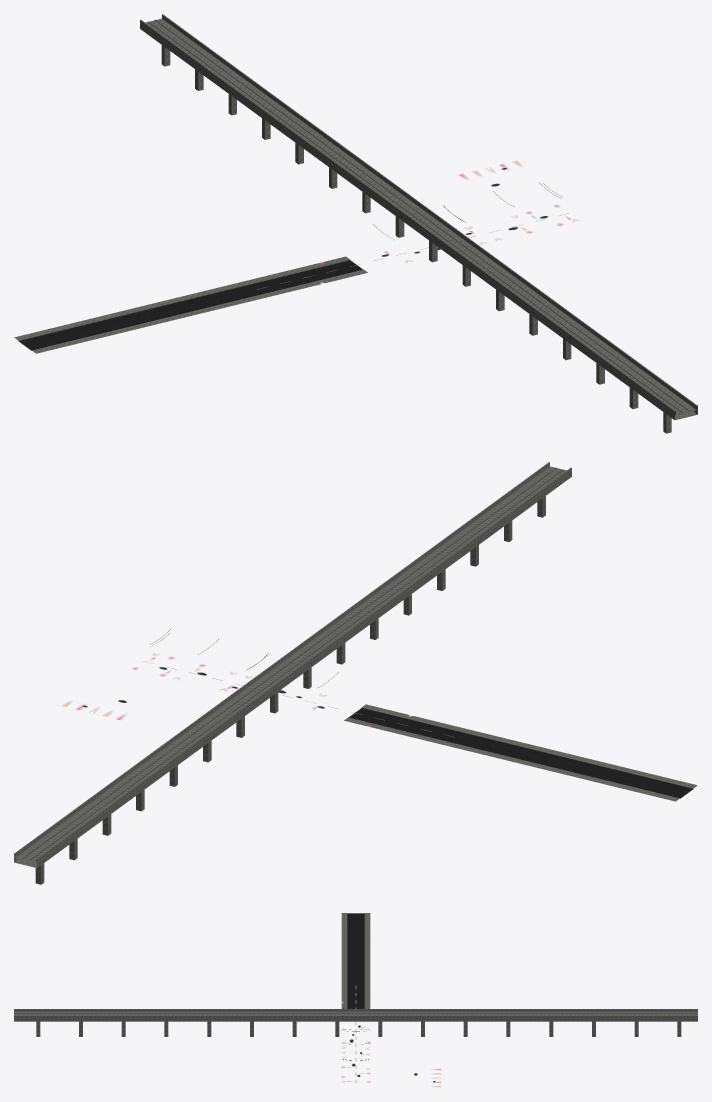
The model's file is night_street.glb.
3 views of the same model, one above another, from view 1: azimuth 30°, elevation 25°; view 2: azimuth 150°, elevation 25°; view 3: azimuth 270°, elevation 25° (orthographic). The views are drawn at different scales.
Visible parts, largest first — view 1: night_base; view 2: night_base; view 3: night_base, night_decals.
Part boxes in pixels (bbox=[...]): night_base: bbox=[14, 14, 697, 433]; night_base: bbox=[14, 462, 697, 884]; night_base: bbox=[14, 913, 697, 1060]; night_decals: bbox=[341, 986, 441, 1086].
Size of the model in its own units: 145 by 9.2 by 240.
7 materials, 7 textured.
